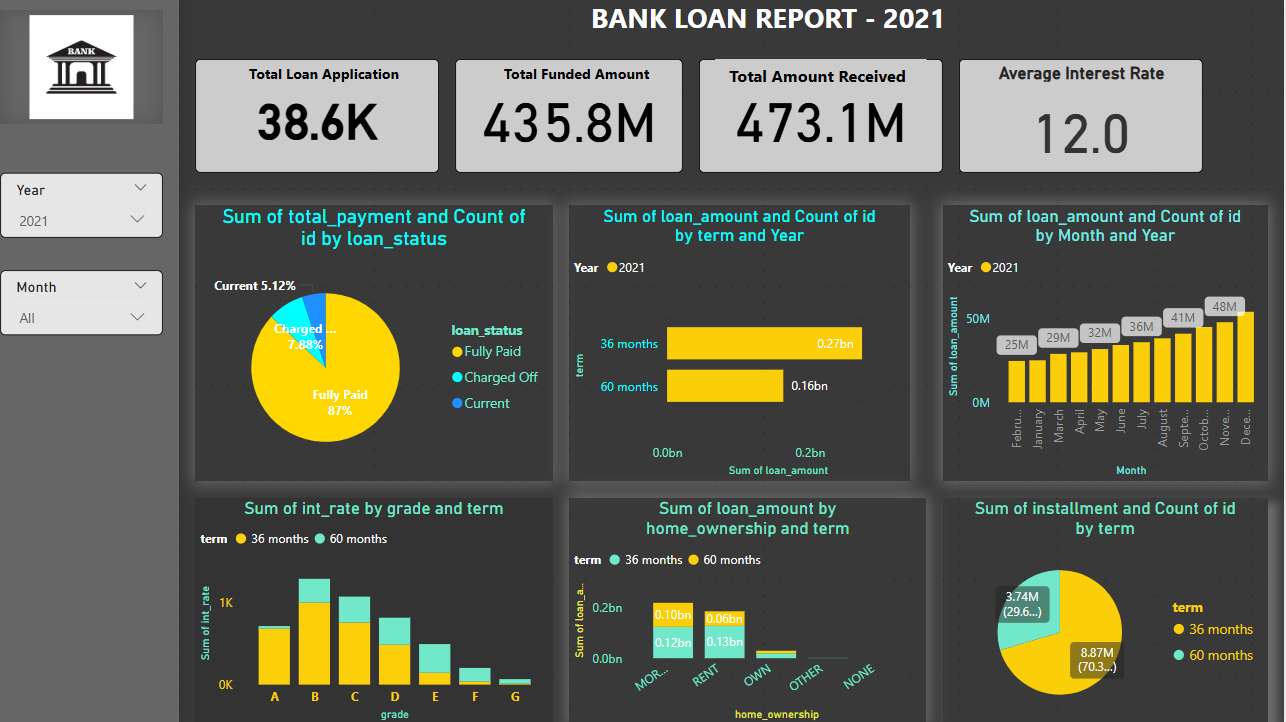

Layout of this report page (visuals, bound fields, positions):
{"tool":"powerbi","page":{"name":"Page 1","canvas":[1280,720],"ordinal":0},"visuals":[{"type":"card","fields":{"Values":["Sum(public bank_loan_data.loan_amount)"]},"box":[464,64,224,112],"z":0},{"type":"textbox","box":[416,0,592,48],"z":1000},{"type":"card","fields":{"Values":["public bank_loan_data.Total Loan Application"]},"box":[208,64,240,112],"z":2000},{"type":"textbox","box":[256,64,192,32],"z":3000},{"type":"textbox","box":[480,64,192,32],"z":4000},{"type":"card","fields":{"Values":["public bank_loan_data.Total Amount Recieved1"]},"box":[704,64,240,112],"z":5000},{"type":"textbox","box":[720,64,208,32],"z":6000},{"type":"textbox","box":[0,0,192,720],"z":7000},{"type":"slicer","fields":{"Values":["public bank_loan_data.Year"]},"box":[16,176,160,64],"z":8000},{"type":"image","box":[16,16,160,112],"z":9000},{"type":"pieChart","fields":{"Category":["public bank_loan_data.loan_status"],"Y":["Sum(public bank_loan_data.total_payment)"]},"box":[208,208,352,272],"z":11000},{"type":"barChart","fields":{"Category":["public bank_loan_data.term"],"Y":["Sum(public bank_loan_data.loan_amount)"],"Series":["public bank_loan_data.Year"]},"box":[576,208,336,272],"z":12000},{"type":"lineStackedColumnComboChart","fields":{"Category":["date table.Month"],"Y":["Sum(public bank_loan_data.loan_amount)"],"Series":["public bank_loan_data.Year"]},"box":[944,208,320,272],"z":14000},{"type":"card","title":"Average Interest Rate","fields":{"Values":["public bank_loan_data.Avg_Int_Rate"]},"box":[960,64,240,112],"z":15000},{"type":"slicer","fields":{"Values":["public bank_loan_data.Month"]},"box":[16,272,160,64],"z":16000},{"type":"columnChart","fields":{"Category":["public bank_loan_data.home_ownership"],"Y":["Sum(public bank_loan_data.loan_amount)"],"Series":["public bank_loan_data.term"]},"box":[576,496,352,224],"z":17001},{"type":"columnChart","fields":{"Category":["public bank_loan_data.grade"],"Y":["Sum(public bank_loan_data.int_rate)"],"Series":["public bank_loan_data.term"]},"box":[208,496,352,224],"z":17002},{"type":"pieChart","fields":{"Category":["public bank_loan_data.term"],"Y":["Sum(public bank_loan_data.installment)"]},"box":[944,496,320,224],"z":17003}]}

Visuals, with their boxes in screenshot pixels (x1, y1, x2, y2), scaled from the page's 1280x720 canvas onto the 1286x722 screenshot:
card - Sum(public bank_loan_data.loan_amount): pyautogui.locateOnScreen(466, 64, 691, 176)
textbox: pyautogui.locateOnScreen(418, 0, 1013, 48)
card - public bank_loan_data.Total Loan Application: pyautogui.locateOnScreen(209, 64, 450, 176)
textbox: pyautogui.locateOnScreen(257, 64, 450, 96)
textbox: pyautogui.locateOnScreen(482, 64, 675, 96)
card - public bank_loan_data.Total Amount Recieved1: pyautogui.locateOnScreen(707, 64, 948, 176)
textbox: pyautogui.locateOnScreen(723, 64, 932, 96)
textbox: pyautogui.locateOnScreen(0, 0, 193, 721)
slicer - public bank_loan_data.Year: pyautogui.locateOnScreen(16, 176, 177, 241)
image: pyautogui.locateOnScreen(16, 16, 177, 128)
pieChart - public bank_loan_data.loan_status x Sum(public bank_loan_data.total_payment): pyautogui.locateOnScreen(209, 209, 563, 481)
barChart - public bank_loan_data.term x Sum(public bank_loan_data.loan_amount): pyautogui.locateOnScreen(579, 209, 916, 481)
lineStackedColumnComboChart - date table.Month x Sum(public bank_loan_data.loan_amount): pyautogui.locateOnScreen(948, 209, 1270, 481)
"Average Interest Rate" card: pyautogui.locateOnScreen(964, 64, 1206, 176)
slicer - public bank_loan_data.Month: pyautogui.locateOnScreen(16, 273, 177, 337)
columnChart - public bank_loan_data.home_ownership x Sum(public bank_loan_data.loan_amount): pyautogui.locateOnScreen(579, 497, 932, 721)
columnChart - public bank_loan_data.grade x Sum(public bank_loan_data.int_rate): pyautogui.locateOnScreen(209, 497, 563, 721)
pieChart - public bank_loan_data.term x Sum(public bank_loan_data.installment): pyautogui.locateOnScreen(948, 497, 1270, 721)
